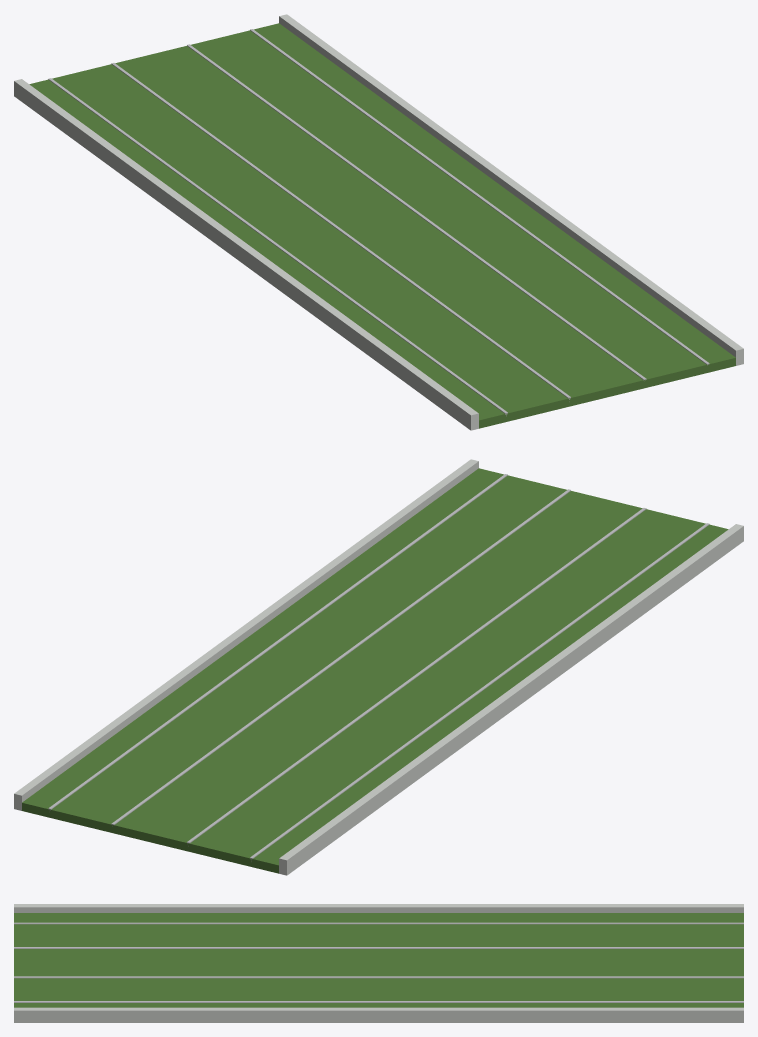
The model's file is PT_TramTrack_Grass_20m.glb.
3 renders of one model, top to bottom at view 1: azimuth 30°, elevation 25°; view 2: azimuth 150°, elevation 25°; view 3: azimuth 270°, elevation 25°, orthographic. The views are drawn at different scales.
Visible parts, largest first — view 1: Bed_Grass, Curb, Rails; view 2: Bed_Grass, Curb, Rails; view 3: Bed_Grass, Curb, Rails.
Boxes of the visible parts, x1,y1,x2,y2 form: Bed_Grass: [29, 23, 735, 428]; Curb: [14, 14, 743, 430]; Rails: [48, 29, 709, 416]; Bed_Grass: [22, 468, 728, 873]; Curb: [14, 459, 743, 875]; Rails: [48, 474, 709, 861]; Bed_Grass: [14, 913, 743, 1007]; Curb: [14, 904, 743, 1022]; Rails: [14, 922, 743, 1002].
Bounding box in the file's own units: 6.9 × 0.37 × 20.
